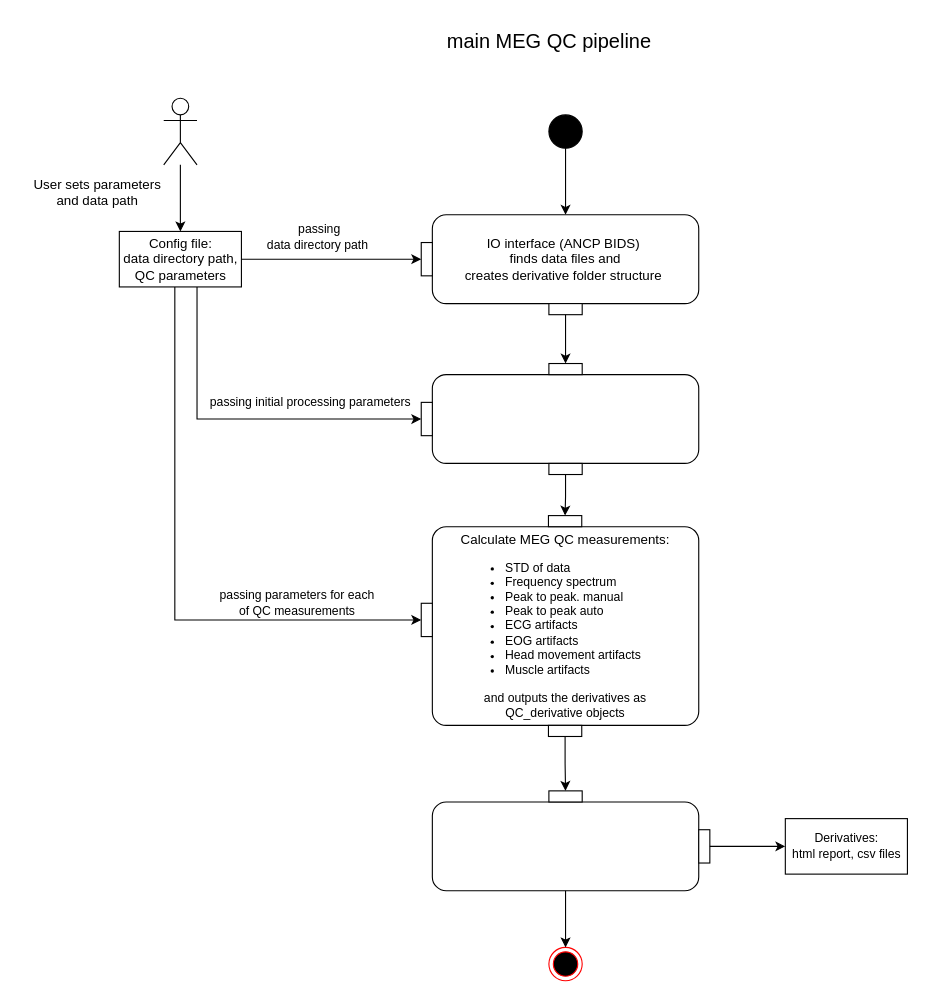
The diagram is 927 pixels wide and 1000 high, and some of its shapes have lost their labels. Each missing label, with the box of its shape:
IO interface (ANCP BIDS) writes derivatives back into data system: (431, 801, 699, 891)
Load, filter (except muscle), epoch data initial_processing(): (431, 374, 699, 463)
